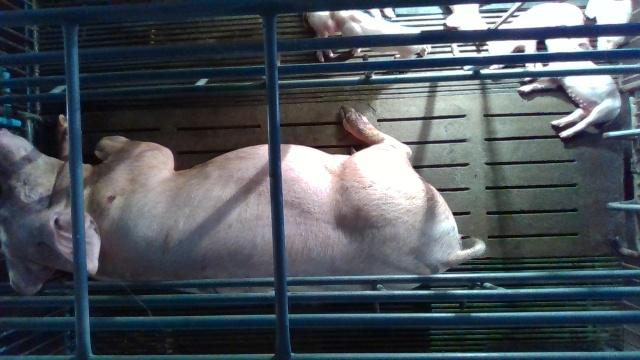piglet: (520, 42, 622, 138), (488, 3, 585, 69), (331, 10, 430, 60)
sow-sleep: (3, 108, 486, 293)
